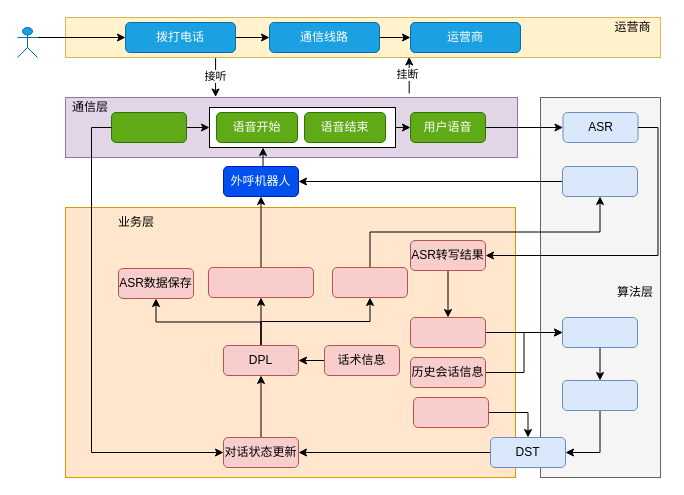
Some shapes in this 684 by 495 pixel diagram are drawn without their labels. The shapes that lost their labels are listed below. From the top down, each one's centre as x and y in pixels, then its label:
(148,127): 通话开始
(600,181): TTS
(261,282): 打断、转接、挂机
(370,282): 回复内容
(448,332): 关键字正则
(600,332): NLU
(450,412): 话术信息对话状态
(600,395): 话术、意图、实体
